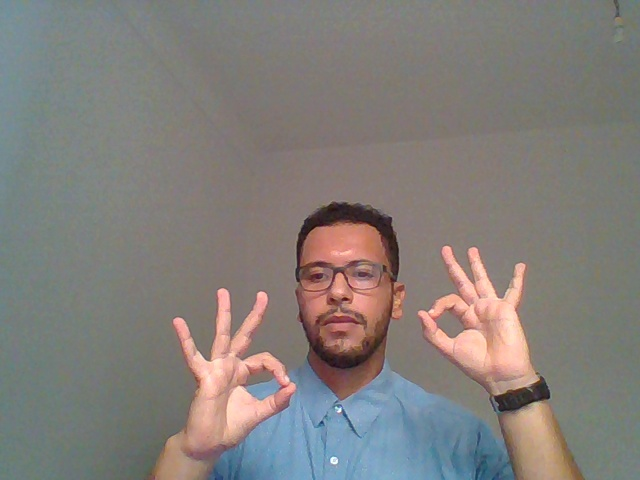okay: (146, 262, 298, 468), (417, 232, 566, 436)
